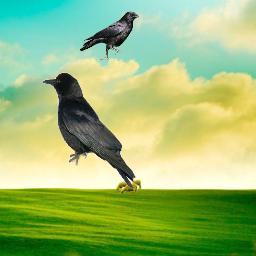Crow: (41, 72, 136, 189), (80, 11, 141, 61)
